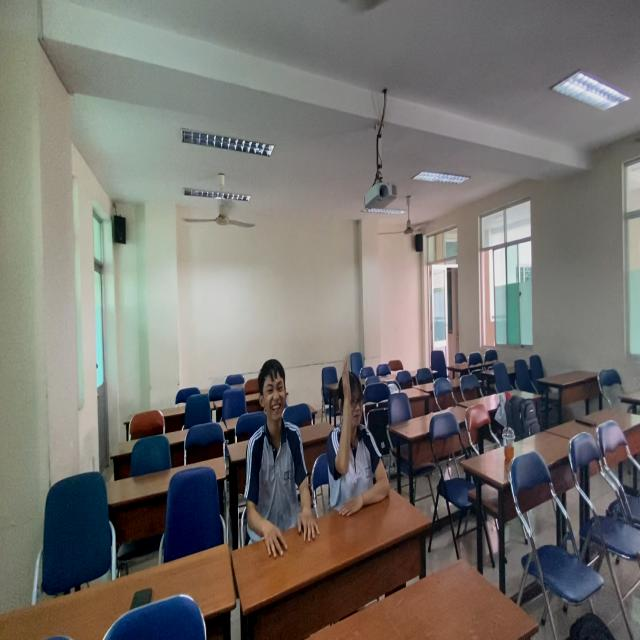raise_hand: (330, 360, 395, 507)
